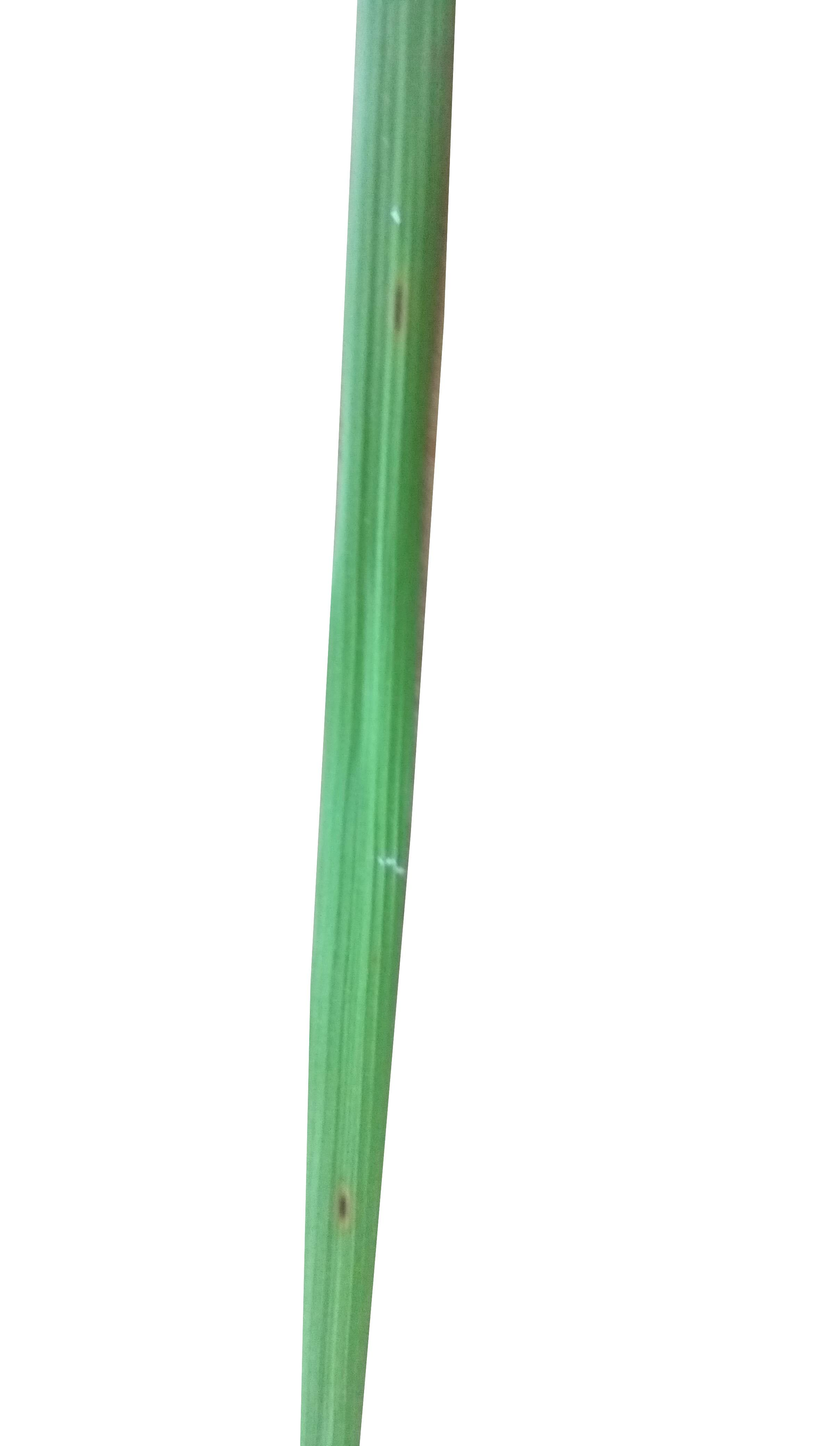Brown spot: (330, 1178, 379, 1237)
